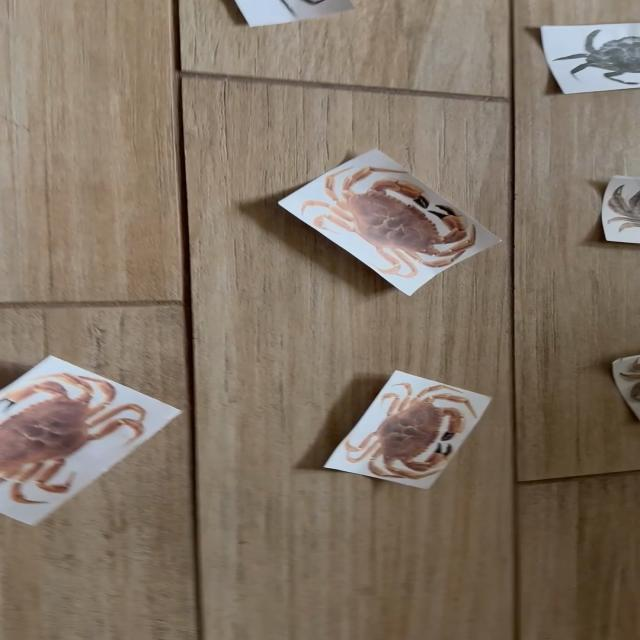egc: (553, 30, 639, 85)
